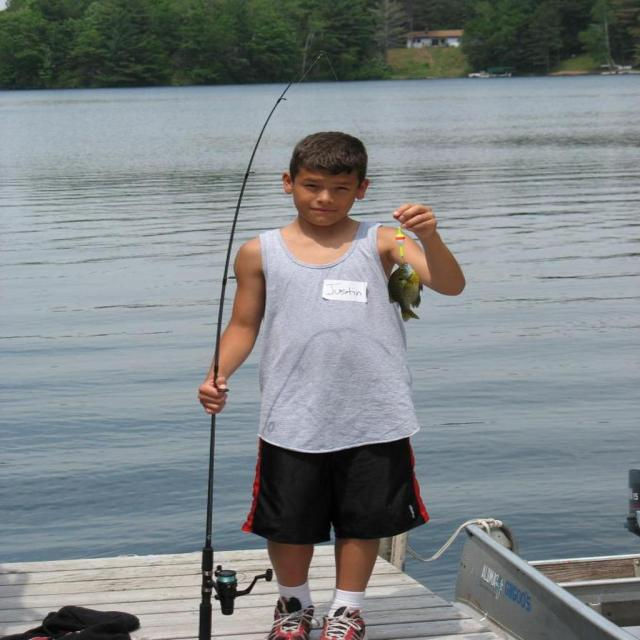Face: (281, 148, 379, 236)
